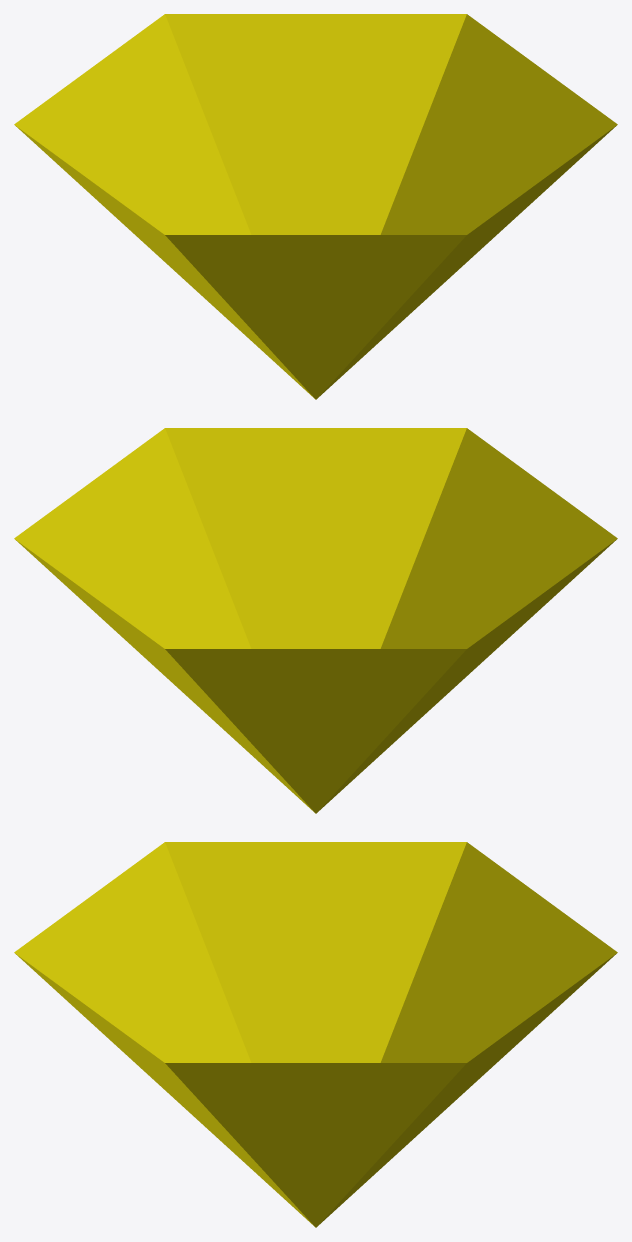
Rendered from exit.dae.
3 renders of one model, top to bottom at view 1: azimuth 30°, elevation 25°; view 2: azimuth 150°, elevation 25°; view 3: azimuth 270°, elevation 25°, orthographic.
Visible parts, largest first — view 1: Cylinder_001; view 2: Cylinder_001; view 3: Cylinder_001.
Boxes of the visible parts, left/top/right/bottom form: Cylinder_001: left=14, top=14, right=617, bottom=399; Cylinder_001: left=14, top=428, right=617, bottom=813; Cylinder_001: left=14, top=842, right=617, bottom=1227.
Bounding box in the file's own units: 2.84 × 3.28 × 1.65.
